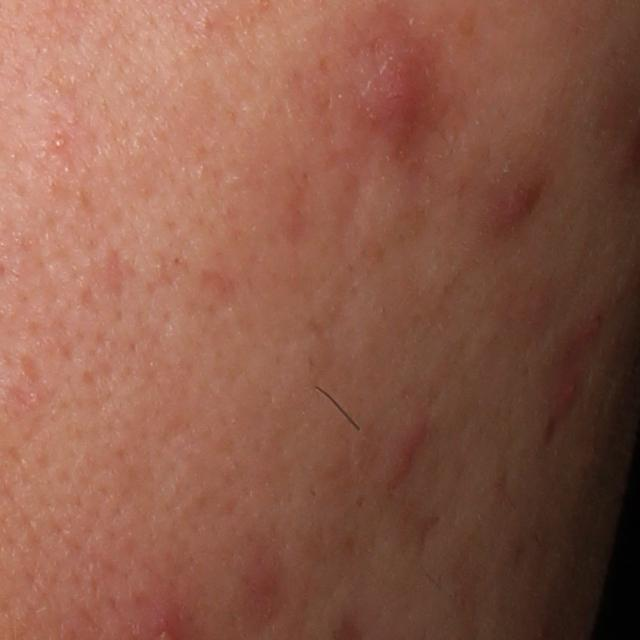atrophic_scar: (411, 512, 446, 559), (15, 352, 45, 382)
papule: (349, 52, 435, 134), (476, 158, 548, 236), (375, 416, 431, 493), (553, 373, 581, 406), (575, 312, 603, 341)
